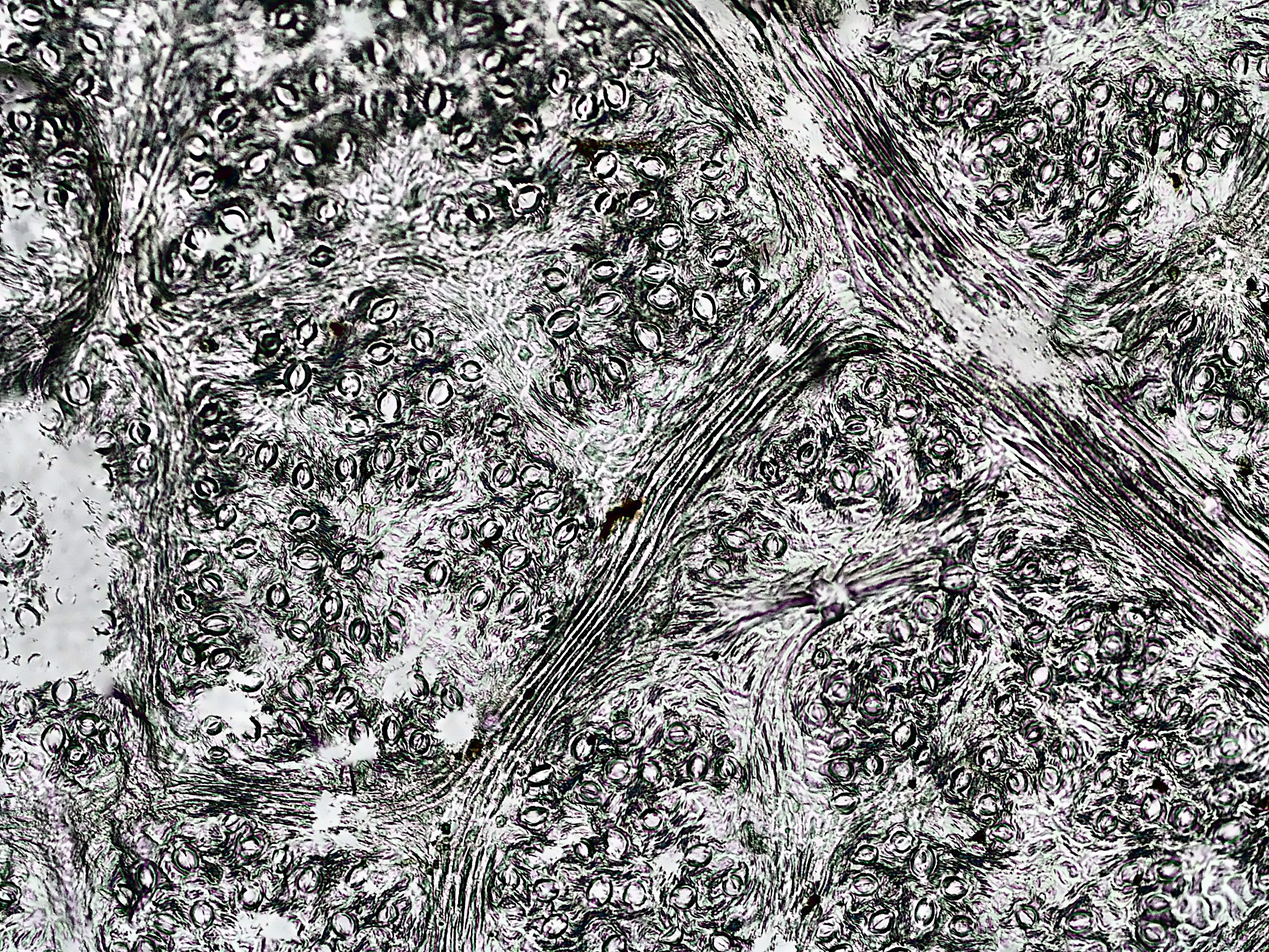stomata: (241, 147, 277, 180), (13, 3, 53, 31), (938, 564, 976, 593), (688, 195, 722, 227), (646, 283, 684, 311), (543, 309, 579, 338), (632, 321, 663, 354), (284, 359, 312, 395), (288, 139, 322, 167), (1135, 918, 1169, 946), (910, 843, 936, 878), (422, 82, 447, 118), (365, 36, 394, 67), (601, 79, 630, 110), (639, 259, 676, 283), (587, 292, 624, 316), (1097, 223, 1131, 249), (512, 185, 543, 213), (585, 876, 613, 907), (1162, 85, 1189, 117), (65, 372, 90, 406), (572, 91, 600, 121), (964, 93, 995, 120), (705, 242, 737, 268), (891, 720, 917, 752), (289, 546, 323, 570), (654, 222, 684, 249), (635, 154, 666, 180), (1087, 79, 1113, 110), (720, 527, 751, 553), (367, 297, 398, 323), (254, 439, 278, 472), (590, 151, 618, 179), (503, 543, 531, 571), (218, 208, 248, 234), (571, 731, 596, 762), (40, 723, 65, 754), (919, 469, 951, 493), (37, 41, 64, 69), (426, 379, 453, 407), (627, 191, 656, 217), (603, 827, 628, 857), (553, 517, 578, 547), (1197, 82, 1219, 116), (589, 258, 620, 282), (1214, 819, 1245, 843), (530, 490, 561, 514), (199, 615, 234, 636), (78, 29, 105, 56), (172, 846, 199, 873), (1182, 147, 1208, 175), (187, 168, 216, 193), (933, 56, 962, 81), (828, 464, 853, 493), (1028, 660, 1053, 689), (190, 900, 214, 930), (226, 537, 260, 558), (670, 884, 697, 910), (628, 42, 656, 67), (663, 721, 691, 746), (684, 843, 712, 868), (51, 677, 76, 705), (490, 141, 519, 165), (692, 292, 716, 321), (181, 549, 210, 573), (525, 764, 555, 787), (849, 873, 880, 895), (518, 805, 549, 827), (382, 715, 404, 746), (3, 38, 30, 63), (453, 124, 478, 151), (1228, 399, 1253, 426), (532, 878, 559, 903), (331, 912, 356, 939), (288, 675, 313, 702), (931, 87, 952, 119), (549, 374, 573, 402), (297, 865, 321, 893), (894, 400, 923, 423), (334, 133, 356, 163), (320, 591, 342, 621), (1172, 310, 1197, 336), (917, 596, 942, 622), (978, 745, 1003, 771), (622, 881, 647, 907), (377, 390, 402, 416), (736, 271, 760, 298), (854, 468, 878, 495), (929, 435, 956, 459), (763, 532, 787, 559), (1173, 803, 1197, 830), (942, 876, 969, 900), (636, 759, 663, 783), (542, 914, 569, 938), (374, 901, 401, 925), (1119, 192, 1147, 215), (1066, 910, 1094, 933), (440, 684, 463, 712), (348, 617, 371, 645), (424, 559, 447, 587), (287, 510, 316, 532), (1141, 793, 1162, 823), (135, 862, 156, 892), (512, 113, 537, 138), (869, 909, 894, 934), (639, 807, 664, 832), (184, 134, 208, 160), (542, 268, 568, 292), (1211, 126, 1237, 150), (1223, 341, 1247, 367), (1005, 770, 1029, 796), (316, 649, 340, 675), (177, 640, 201, 666), (493, 462, 517, 488), (335, 549, 361, 573), (1157, 859, 1184, 882), (948, 914, 975, 937), (366, 342, 393, 365), (373, 445, 396, 472), (1129, 119, 1151, 147), (306, 245, 334, 267), (574, 365, 595, 394), (1071, 651, 1096, 675), (1195, 712, 1219, 737), (1119, 861, 1144, 885), (605, 756, 629, 781), (238, 885, 263, 909), (278, 712, 303, 736), (1016, 119, 1042, 142), (891, 617, 914, 643), (285, 619, 311, 642), (266, 582, 289, 608), (198, 573, 224, 596), (337, 372, 360, 398), (705, 559, 732, 581), (291, 462, 313, 489), (1134, 68, 1153, 99), (919, 666, 938, 697), (796, 441, 817, 469), (296, 318, 317, 346), (604, 358, 628, 382), (827, 678, 851, 702), (216, 107, 241, 130), (215, 75, 238, 100), (482, 49, 507, 72), (988, 183, 1013, 206), (1094, 762, 1117, 787), (577, 779, 602, 802), (466, 586, 491, 609), (426, 459, 451, 482), (346, 414, 371, 437), (259, 332, 282, 357), (2, 747, 27, 770), (272, 83, 298, 105), (994, 25, 1020, 47), (1051, 98, 1073, 124), (1192, 364, 1214, 390), (1023, 621, 1049, 643), (995, 544, 1021, 566), (950, 767, 972, 793), (608, 723, 634, 745), (686, 753, 708, 779), (411, 326, 433, 352), (153, 912, 180, 933), (1116, 666, 1144, 686), (914, 897, 934, 925), (594, 192, 618, 215), (1086, 188, 1109, 212), (714, 757, 737, 781), (76, 714, 100, 737), (479, 519, 503, 542), (535, 605, 558, 629), (315, 200, 338, 224), (828, 791, 857, 810), (465, 203, 490, 225), (1136, 733, 1161, 755), (1016, 905, 1038, 930), (238, 835, 263, 857), (506, 588, 528, 613), (458, 359, 483, 381), (335, 455, 357, 480), (491, 78, 517, 99), (699, 159, 725, 180), (829, 731, 855, 752), (409, 729, 430, 755), (408, 674, 429, 700), (195, 476, 221, 497), (216, 503, 236, 530), (864, 376, 887, 399), (382, 611, 405, 634), (987, 134, 1011, 156), (964, 615, 986, 639), (1171, 747, 1195, 769), (346, 863, 368, 887), (99, 728, 121, 752), (336, 686, 358, 710), (489, 412, 511, 436), (394, 465, 416, 489), (1038, 157, 1059, 182), (1057, 740, 1078, 765), (348, 719, 369, 744), (499, 865, 520, 890), (115, 883, 136, 908), (418, 432, 443, 453), (204, 433, 229, 454), (359, 91, 377, 120), (760, 456, 780, 482), (828, 760, 854, 780), (272, 848, 292, 874), (52, 151, 79, 170), (237, 672, 264, 691), (8, 110, 31, 132), (861, 693, 883, 716), (1102, 633, 1124, 656), (1130, 698, 1153, 720), (1039, 767, 1061, 790), (72, 72, 93, 96), (572, 837, 593, 861), (15, 694, 36, 718), (209, 648, 233, 669), (127, 421, 151, 442), (94, 431, 115, 455), (2, 158, 27, 178), (549, 68, 569, 93), (1146, 893, 1171, 913), (714, 727, 734, 752), (311, 67, 330, 93), (852, 845, 878, 864), (1080, 140, 1098, 167), (1106, 157, 1128, 179), (1096, 810, 1117, 833), (1022, 721, 1045, 742), (890, 831, 913, 852), (844, 415, 868, 435), (994, 694, 1014, 718), (1164, 696, 1184, 720), (991, 823, 1015, 843), (519, 466, 543, 486), (167, 253, 186, 278), (61, 111, 83, 132), (275, 8, 297, 29), (1197, 398, 1219, 419), (978, 793, 999, 815), (722, 875, 744, 896), (175, 590, 196, 612), (185, 227, 206, 249), (204, 746, 231, 763), (1069, 615, 1094, 633), (1153, 606, 1178, 624), (1004, 72, 1026, 92), (1229, 52, 1249, 74), (937, 645, 957, 667), (815, 922, 837, 942), (65, 745, 87, 765), (1059, 556, 1082, 575), (1146, 637, 1165, 660), (812, 648, 832, 669), (863, 754, 883, 775), (877, 660, 898, 680), (136, 453, 158, 472), (214, 256, 232, 279), (1124, 608, 1146, 626), (913, 745, 932, 765), (203, 715, 222, 735), (979, 59, 1001, 76), (449, 521, 468, 540), (198, 403, 219, 420), (1022, 560, 1040, 578), (971, 158, 988, 176)
